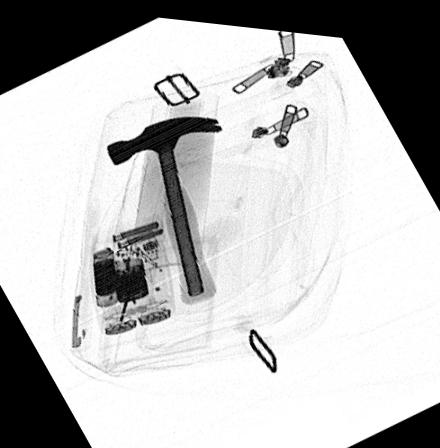Hammer: (105, 111, 223, 301)
